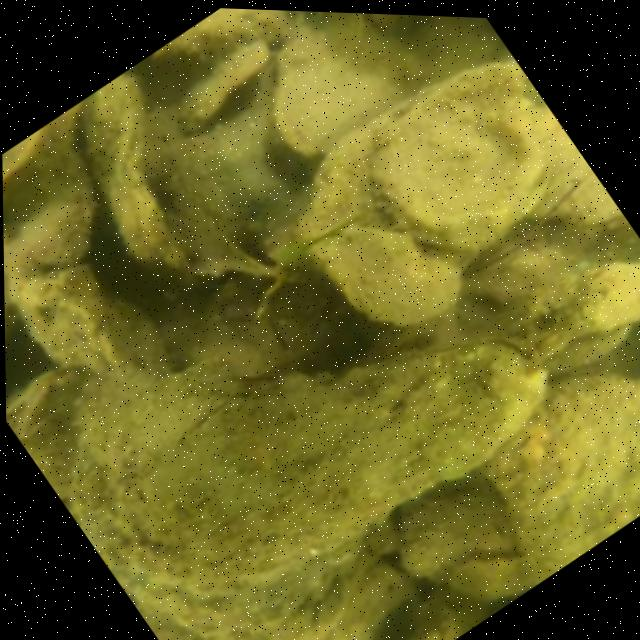Oyster-Closed: (368, 61, 552, 252)
Oyster-Indeterminate: (59, 341, 545, 615), (492, 372, 640, 568), (273, 17, 426, 150), (4, 261, 170, 372), (319, 229, 461, 326), (399, 473, 516, 582), (3, 140, 95, 264), (160, 8, 312, 59)
